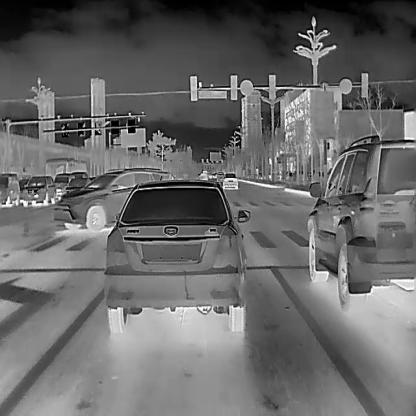car: (103, 179, 251, 331), (306, 135, 414, 314), (53, 167, 174, 229), (21, 175, 56, 204), (43, 157, 87, 180), (51, 172, 75, 201), (0, 172, 19, 206), (64, 176, 92, 190), (222, 172, 238, 189), (70, 169, 88, 179)
